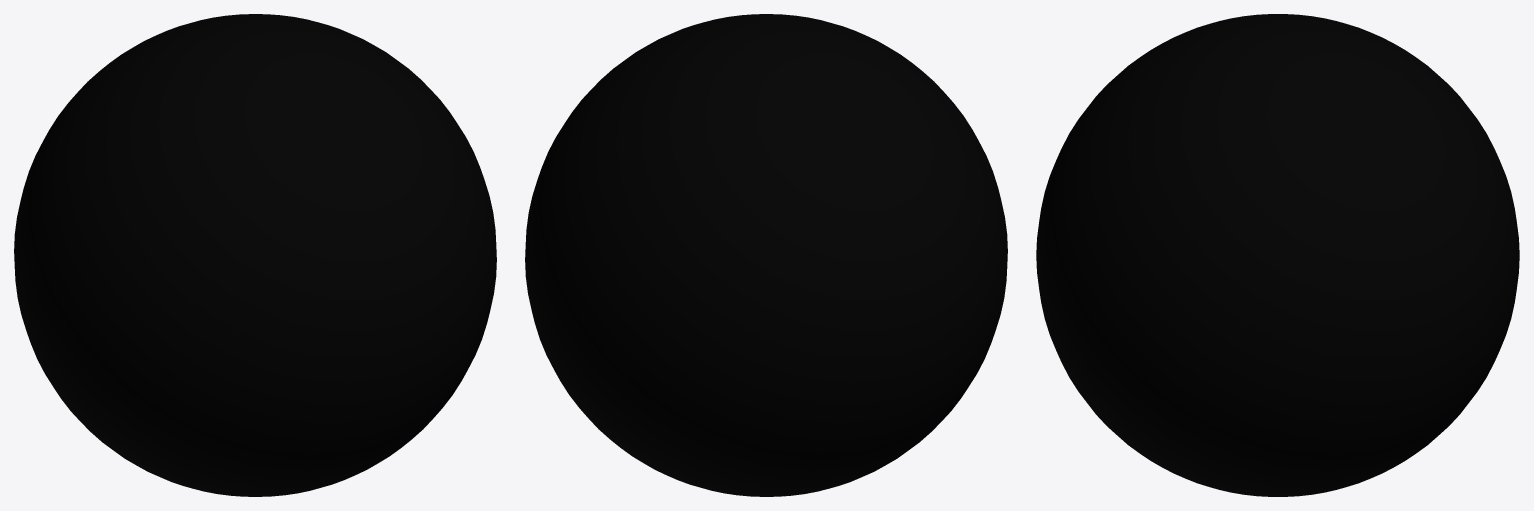
File: bubble4.dae
3 renders of one model, left to right at view 1: azimuth 30°, elevation 25°; view 2: azimuth 150°, elevation 25°; view 3: azimuth 270°, elevation 25°, orthographic.
Visible parts, largest first — view 1: Mesh; view 2: Mesh; view 3: Mesh.
Boxes of the visible parts, box(x1,y1,x2,y2) form: Mesh: box(14, 14, 496, 496); Mesh: box(525, 14, 1007, 496); Mesh: box(1036, 14, 1519, 496).
Bounding box in the file's own units: 0.998 × 1 × 1.
